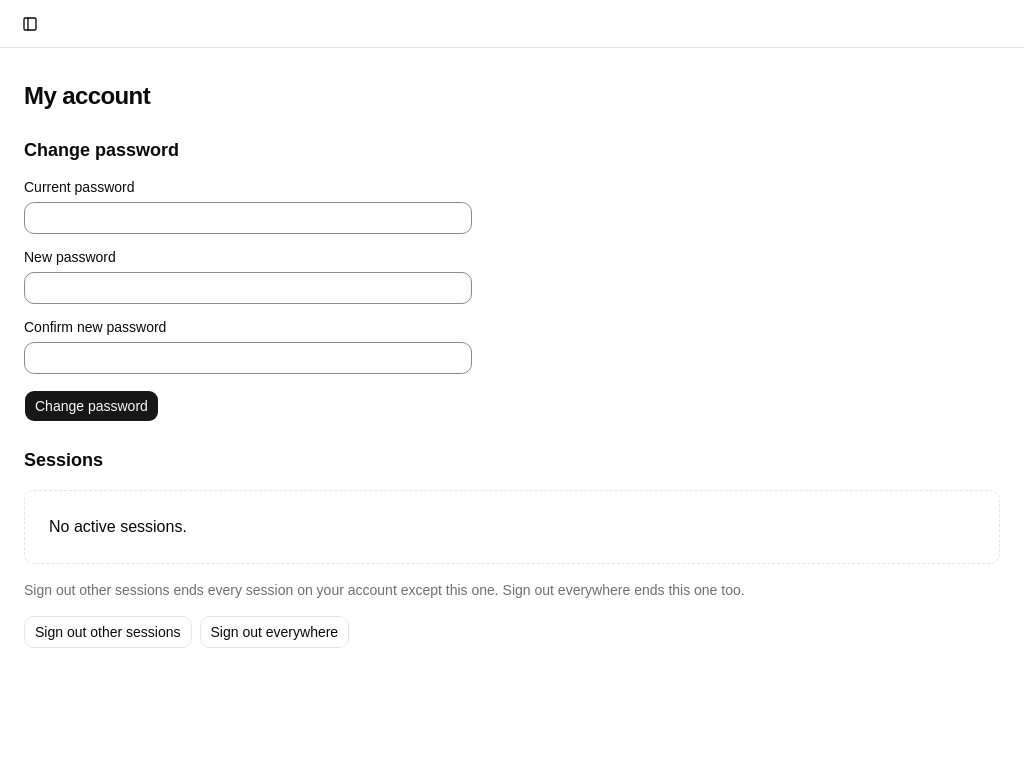
Test: change password: what is sent › sends nothing when the confirmation does not match, and says so
The width and height of the screenshot is (1024, 768).
Type "old secret" into the password field labelled "Current password" at (248, 218), box [24,202,472,234]
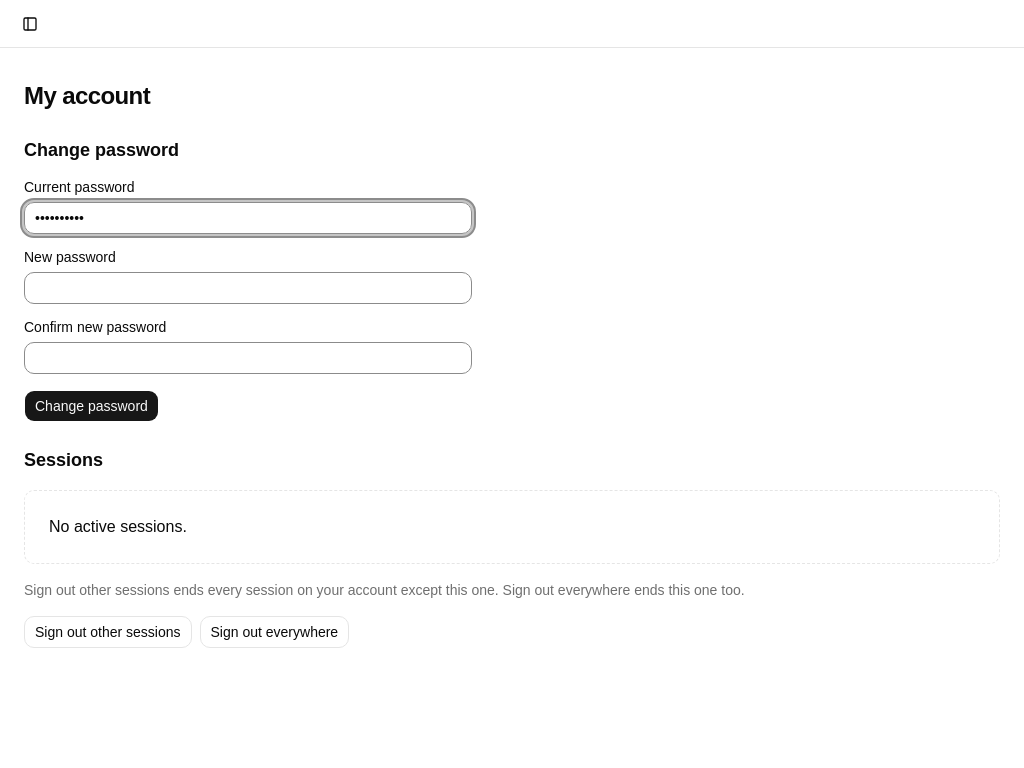
Type "new secret" into the password field labelled "New password" at (248, 288), box [24,272,472,304]
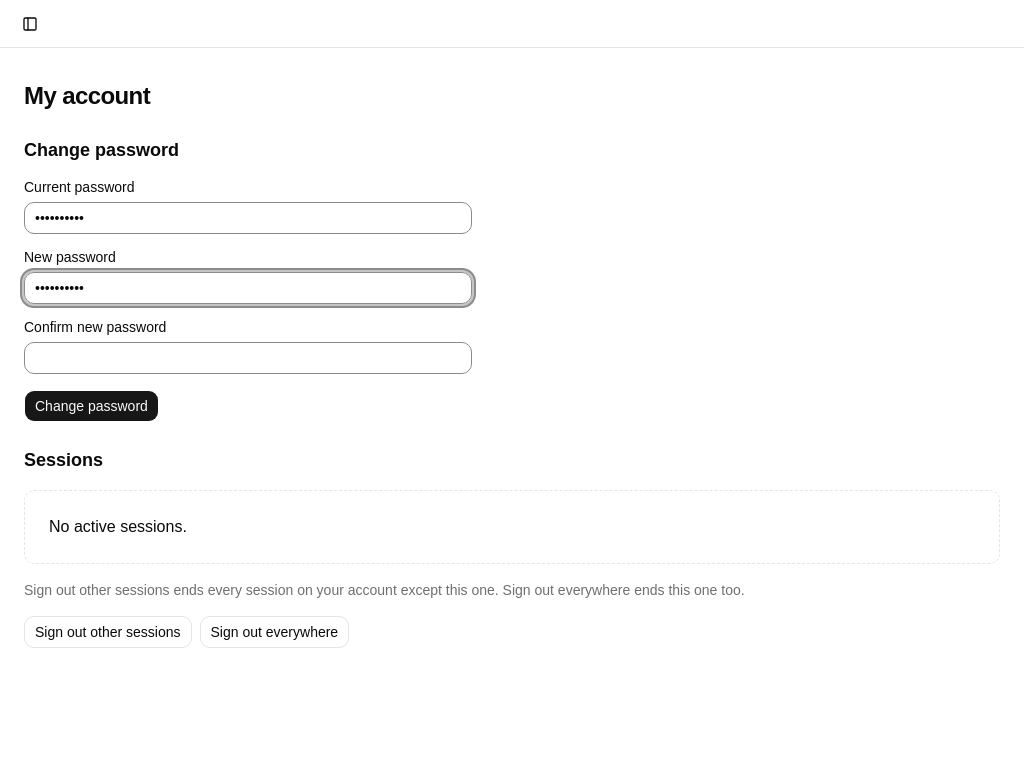
Type "new secreT" into the password field labelled "Confirm new password" at (248, 358), box [24,342,472,374]
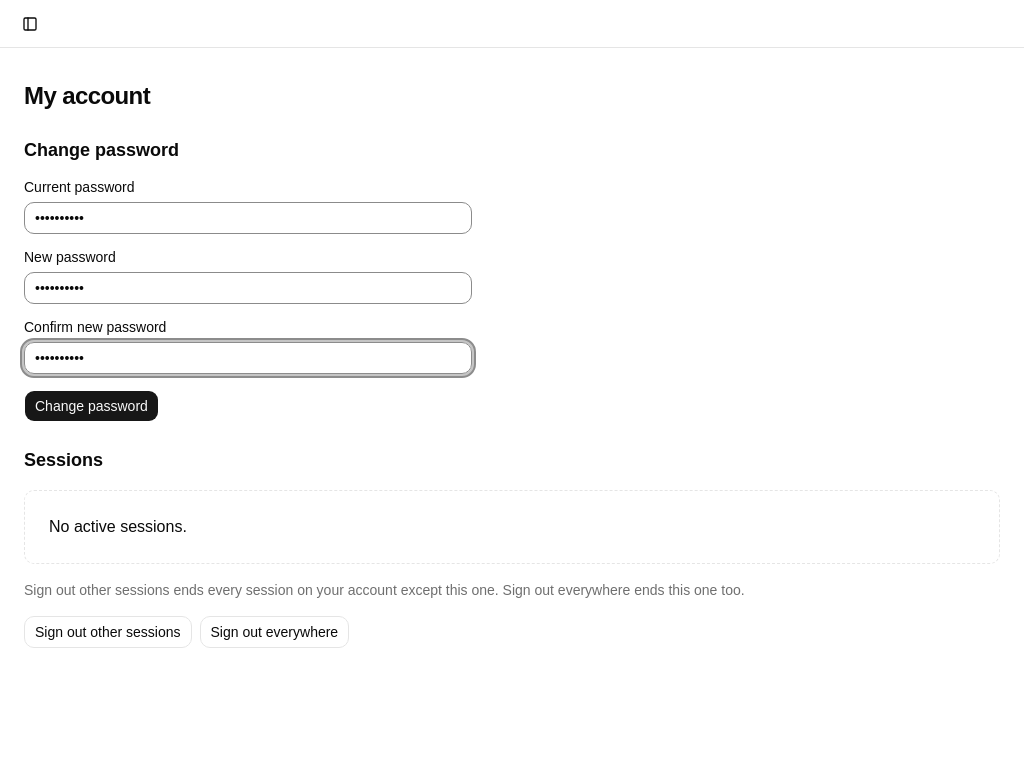
Click the button "Change password" at (91, 406), box [24,390,159,422]
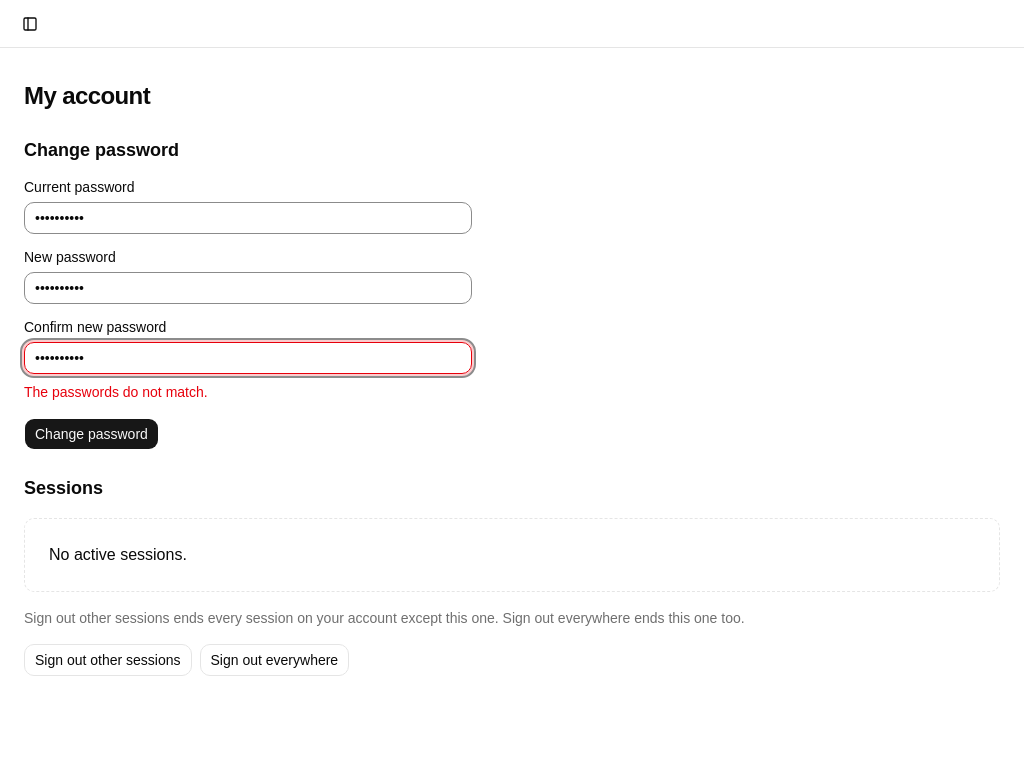
expect the text "The passwords do not match." is shown: met, box [24,384,208,400]
